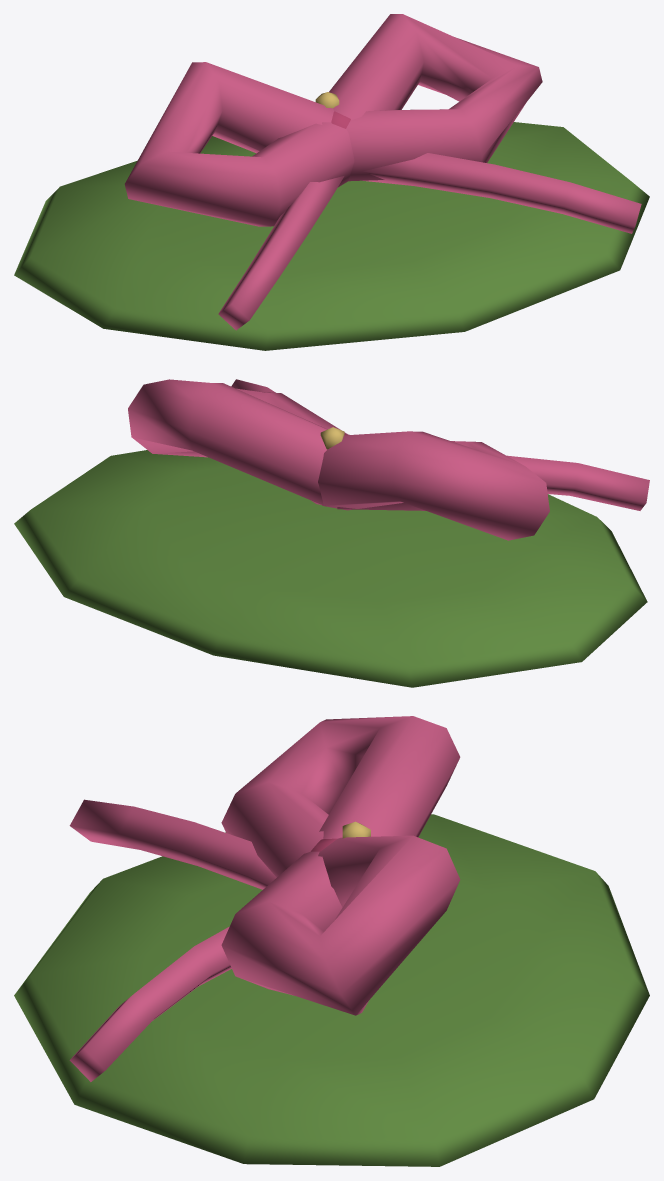
File: col_mask_ribbon.glb
3 views of the same model, one above another, from view 1: azimuth 30°, elevation 25°; view 2: azimuth 150°, elevation 25°; view 3: azimuth 270°, elevation 25° (orthographic). The views are drawn at different scales.
Visible parts, largest first — view 1: col_mask_ribbon; view 2: col_mask_ribbon; view 3: col_mask_ribbon.
Boxes of the visible parts, box(x1,y1,x2,y2) form: col_mask_ribbon: box(14, 14, 649, 350); col_mask_ribbon: box(14, 379, 649, 687); col_mask_ribbon: box(14, 716, 649, 1166).
Size of what is drawn, in the model's own units: 0.3573 by 0.1071 by 0.281.
